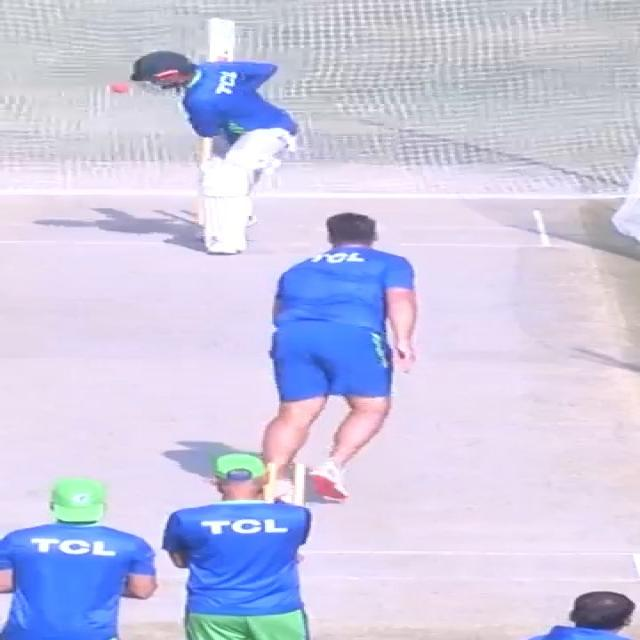Cricket ball: (109, 81, 130, 95)
